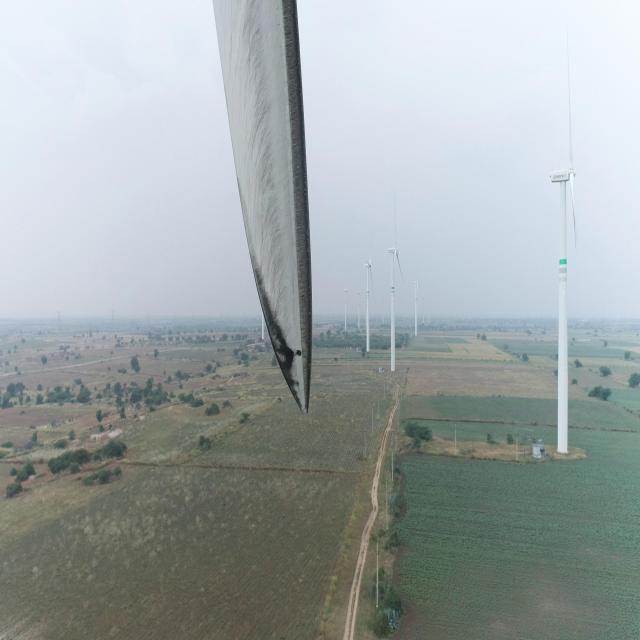Dirt: (216, 0, 311, 408)
Oil LEAKAGE: (252, 266, 305, 417)
Pin Hole: (290, 345, 308, 361)
